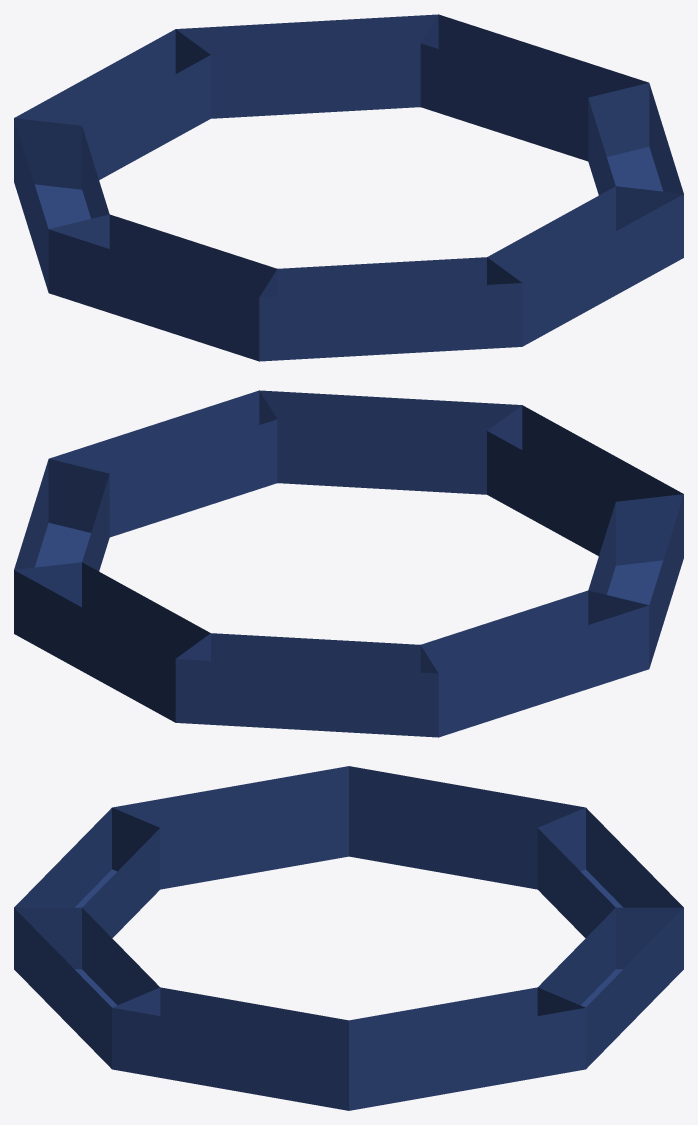
Rendered from auditory_tunnel_rib.obj.
3 renders of one model, top to bottom at view 1: azimuth 30°, elevation 25°; view 2: azimuth 150°, elevation 25°; view 3: azimuth 270°, elevation 25°, orthographic. The views are drawn at different scales.
Visible parts, largest first — view 1: auditory_tunnel_rib; view 2: auditory_tunnel_rib; view 3: auditory_tunnel_rib.
Boxes of the visible parts, x1=… form: auditory_tunnel_rib: x1=14, y1=14, x2=683, y2=361; auditory_tunnel_rib: x1=14, y1=390, x2=683, y2=737; auditory_tunnel_rib: x1=14, y1=766, x2=683, y2=1110.
Size of the model in its own units: 2.36 by 0.24 by 2.36.
